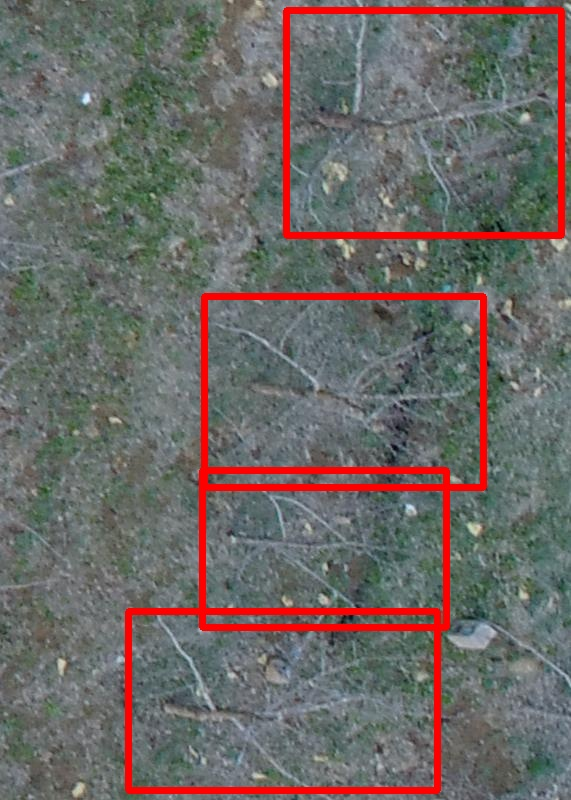apple: (286, 10, 561, 235), (128, 611, 437, 790), (204, 296, 483, 487), (202, 470, 446, 627)
